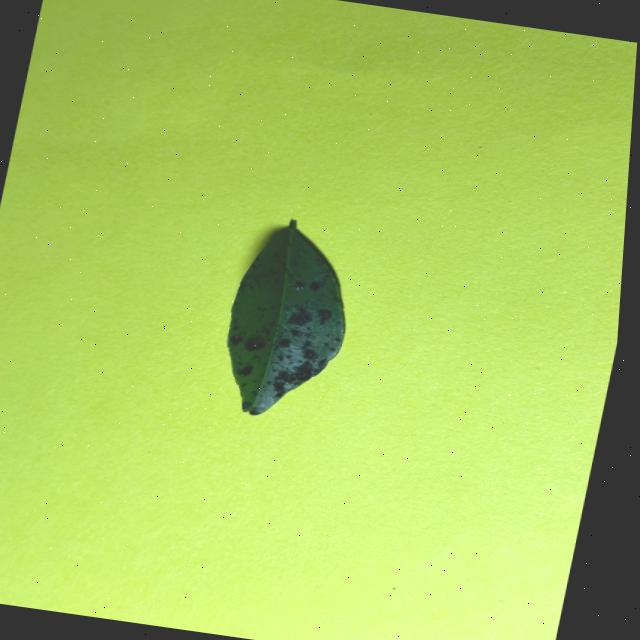sooty_mold: (226, 220, 344, 414)
